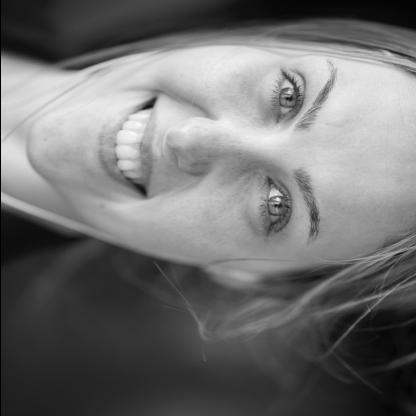Eye: (245, 175, 292, 237), (258, 65, 305, 126)
Mouth: (94, 96, 160, 200)
Nose: (164, 116, 270, 173)
